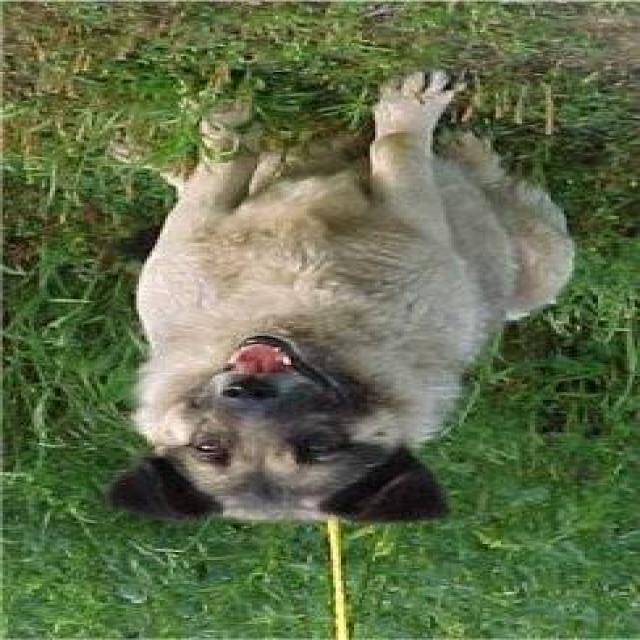dog: (79, 76, 588, 560)
